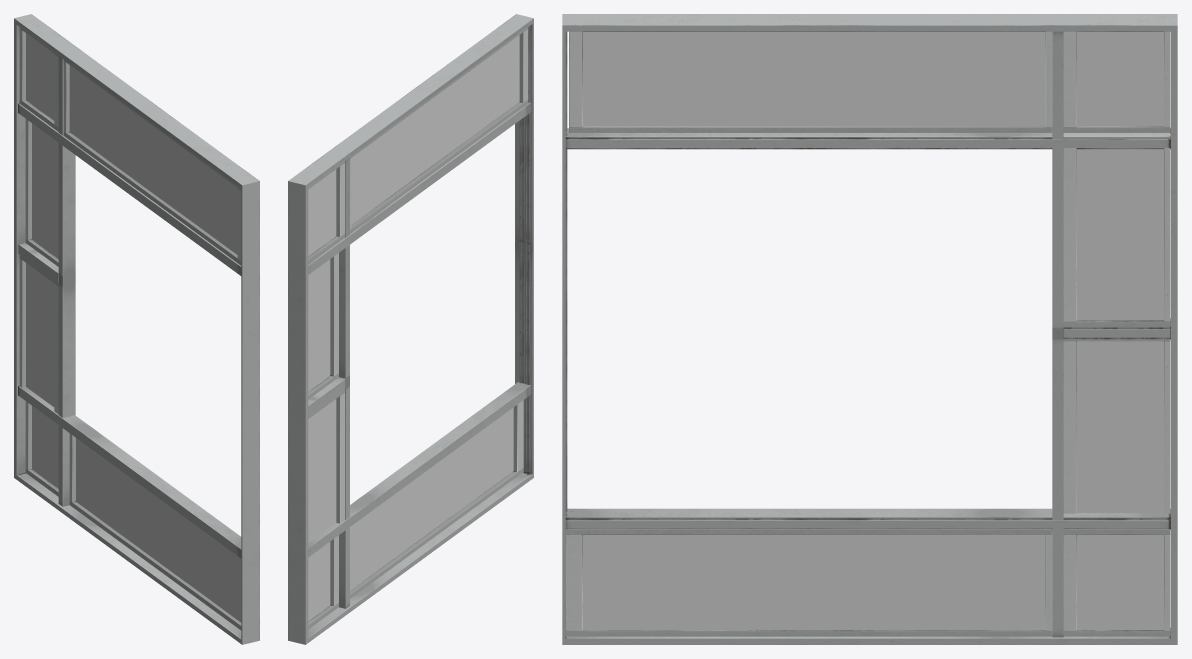
Rendered from EntranceGlass.fbx.
The picture shows the model from 3 angles, left to right: view 1: azimuth 30°, elevation 25°; view 2: azimuth 150°, elevation 25°; view 3: azimuth 270°, elevation 25°; orthographic projection. The views are drawn at different scales.
Visible parts, largest first — view 1: SM_EntranceGlass; view 2: SM_EntranceGlass; view 3: SM_EntranceGlass.
Boxes of the visible parts, bbox=[...] form: SM_EntranceGlass: bbox=[14, 14, 259, 644]; SM_EntranceGlass: bbox=[288, 14, 533, 644]; SM_EntranceGlass: bbox=[562, 14, 1177, 644].
Size of the model in its own units: 0.12 by 3 by 2.7.
